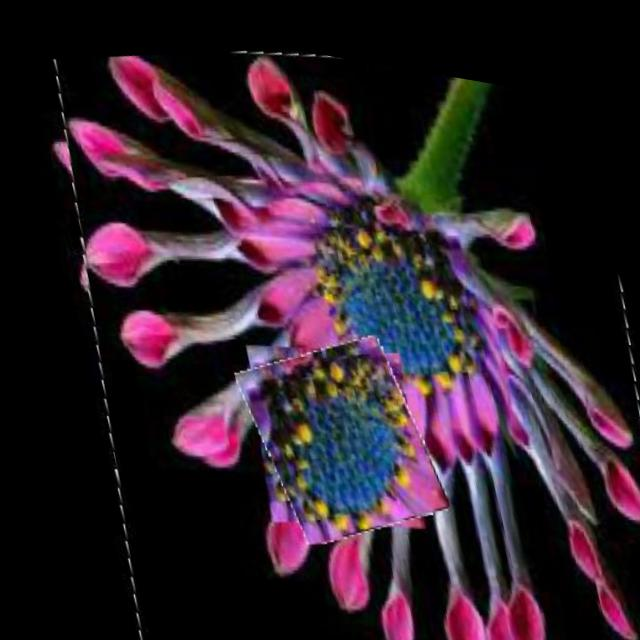Flower: (14, 2, 640, 640), (234, 304, 448, 553)
